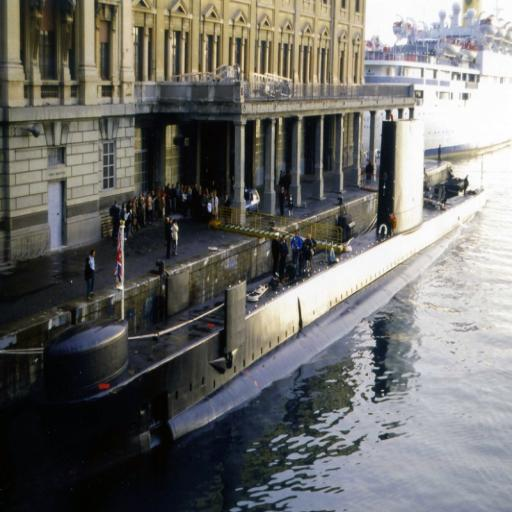submarine: (30, 113, 487, 465)
